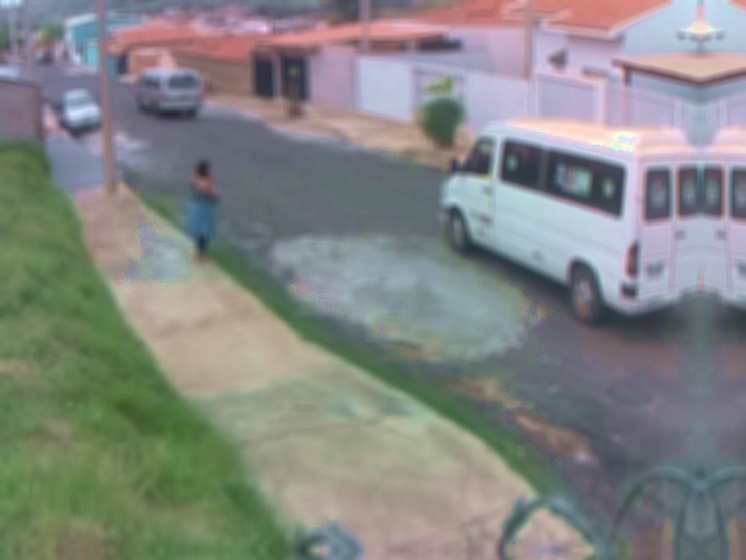person: (188, 158, 225, 269)
